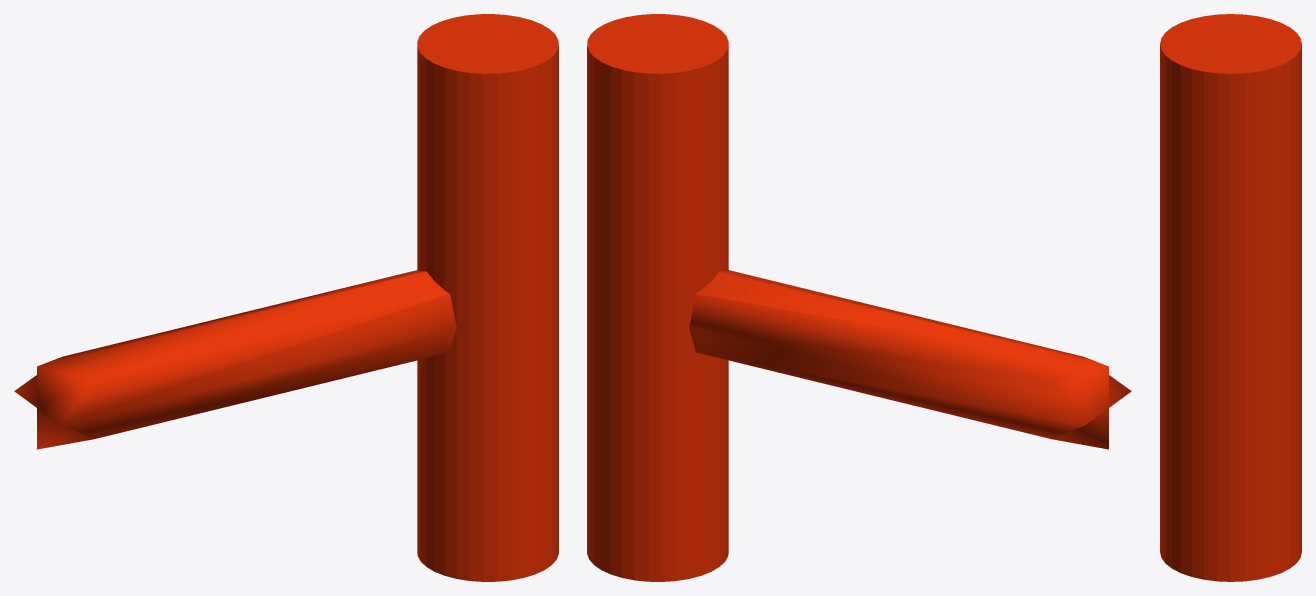
File: cytidine.fbx
3 renders of one model, left to right at view 1: azimuth 30°, elevation 25°; view 2: azimuth 150°, elevation 25°; view 3: azimuth 270°, elevation 25°, orthographic.
Parts seen in each view (by area): view 1: cytidine; view 2: cytidine; view 3: cytidine.
Boxes of the visible parts, x1,y1,x2,y2 form: cytidine: [14, 14, 558, 581]; cytidine: [587, 14, 1131, 581]; cytidine: [1160, 14, 1301, 581].
Bounding box in the file's own units: 53.8 × 50.98 × 12.91.
